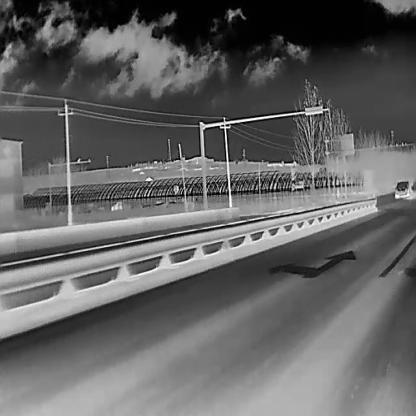car: (393, 180, 411, 198)
